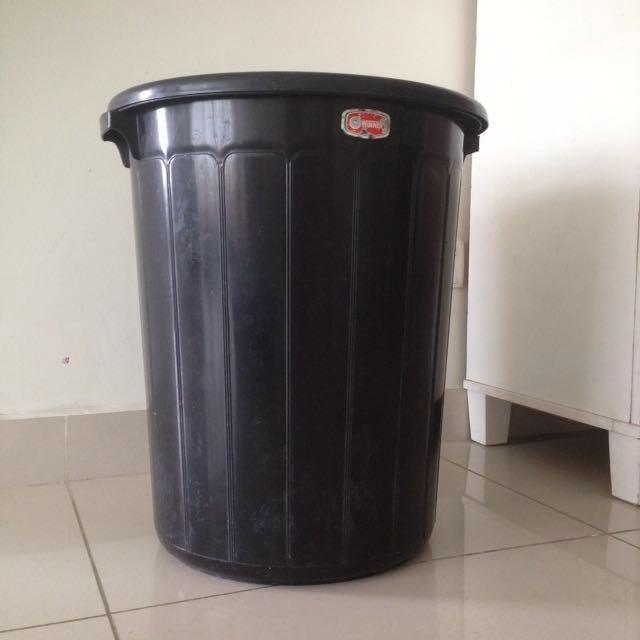Bote de Basura: (109, 76, 495, 579)
